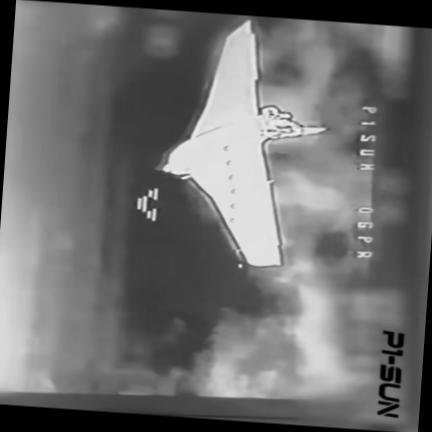Shahed: (157, 20, 326, 267)
